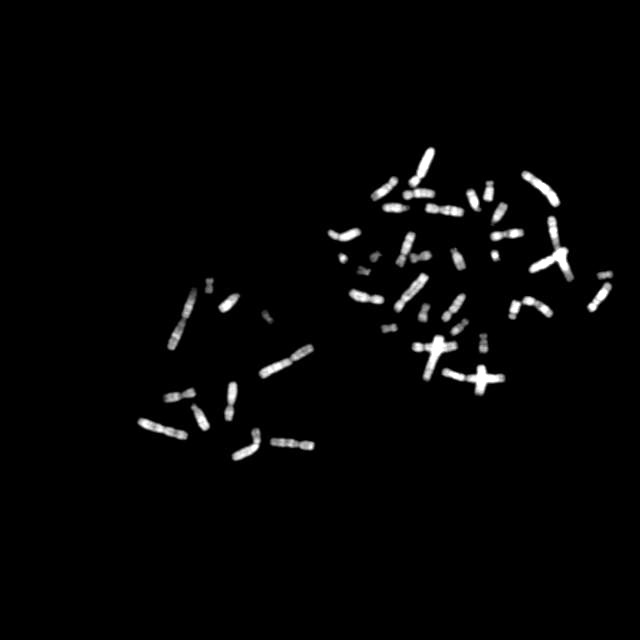chromosome: (167, 288, 197, 350), (260, 346, 314, 378), (547, 216, 573, 282), (522, 171, 560, 207), (396, 274, 428, 312), (137, 418, 188, 440), (530, 247, 568, 273), (410, 148, 434, 186), (441, 368, 505, 382), (232, 428, 260, 460), (423, 336, 443, 380), (370, 175, 398, 201), (587, 282, 611, 312), (442, 293, 466, 321), (396, 232, 414, 266), (522, 296, 552, 316), (411, 340, 457, 352), (426, 204, 464, 218), (270, 438, 314, 450), (328, 226, 360, 242), (225, 382, 238, 421), (348, 290, 384, 304), (192, 403, 210, 431), (218, 293, 242, 313), (164, 388, 196, 402), (490, 229, 524, 241), (403, 188, 435, 200), (474, 364, 486, 396), (449, 248, 465, 270), (467, 188, 481, 212), (492, 203, 508, 223), (450, 320, 468, 336), (384, 203, 408, 213), (411, 250, 431, 262), (508, 300, 520, 320), (484, 181, 494, 201), (478, 334, 488, 354), (418, 304, 429, 322), (369, 249, 381, 263), (381, 323, 397, 332), (204, 278, 213, 294), (357, 266, 371, 276), (262, 310, 272, 324), (598, 271, 612, 279), (491, 250, 499, 262), (339, 254, 347, 264)
